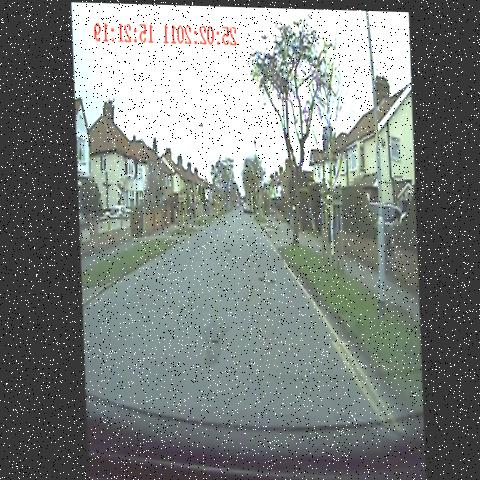pothole: (198, 319, 225, 367), (252, 266, 278, 291), (246, 226, 261, 248), (217, 238, 232, 259), (230, 217, 243, 240), (238, 284, 252, 303)
